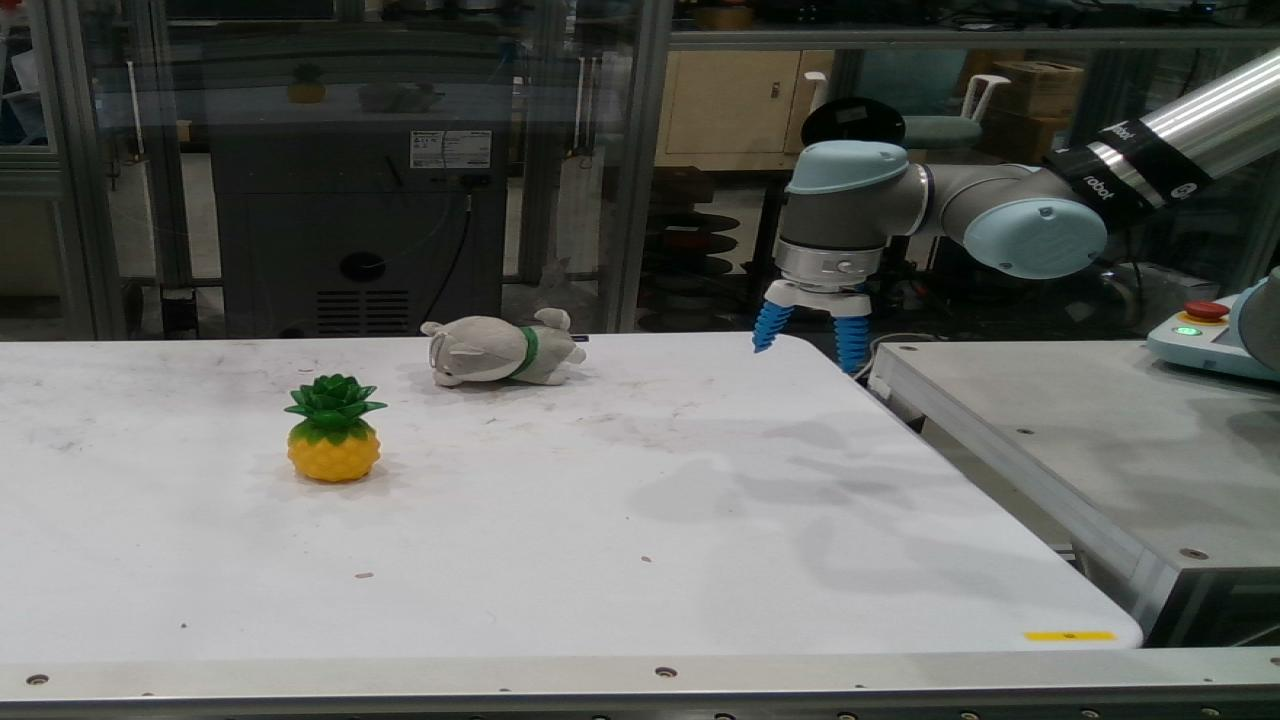UR5: (769, 49, 1279, 318), (1231, 269, 1279, 371)
gripper_left: (752, 301, 793, 352)
gripper_right: (835, 316, 867, 374)
target: (420, 308, 585, 387), (285, 374, 383, 482)
